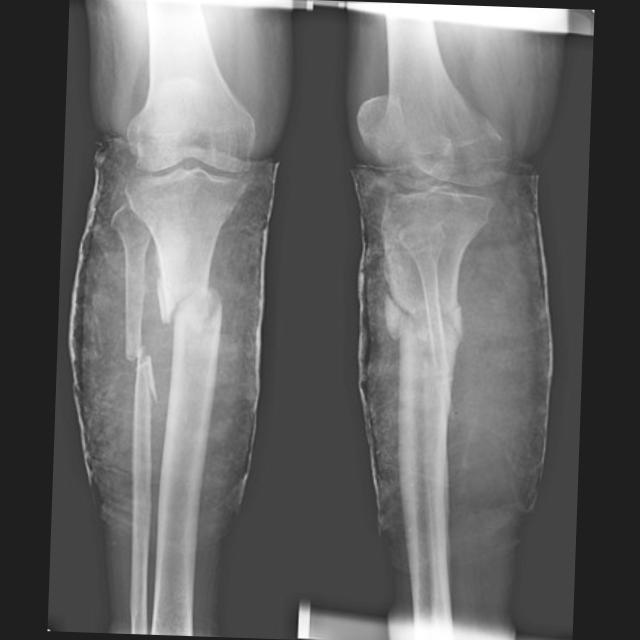fractured: (378, 285, 466, 348), (158, 279, 226, 334), (120, 341, 161, 410)
